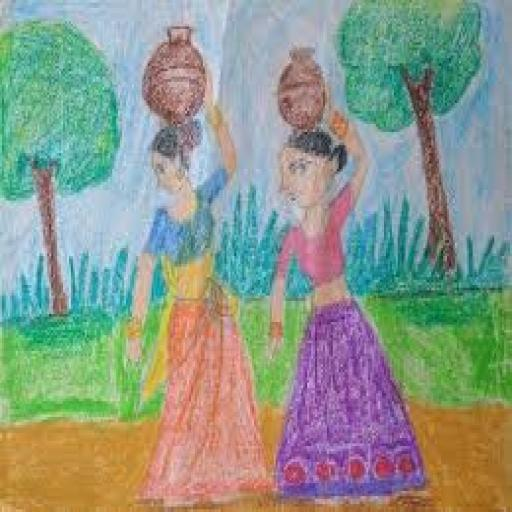person: (267, 40, 428, 500), (117, 19, 268, 509)
